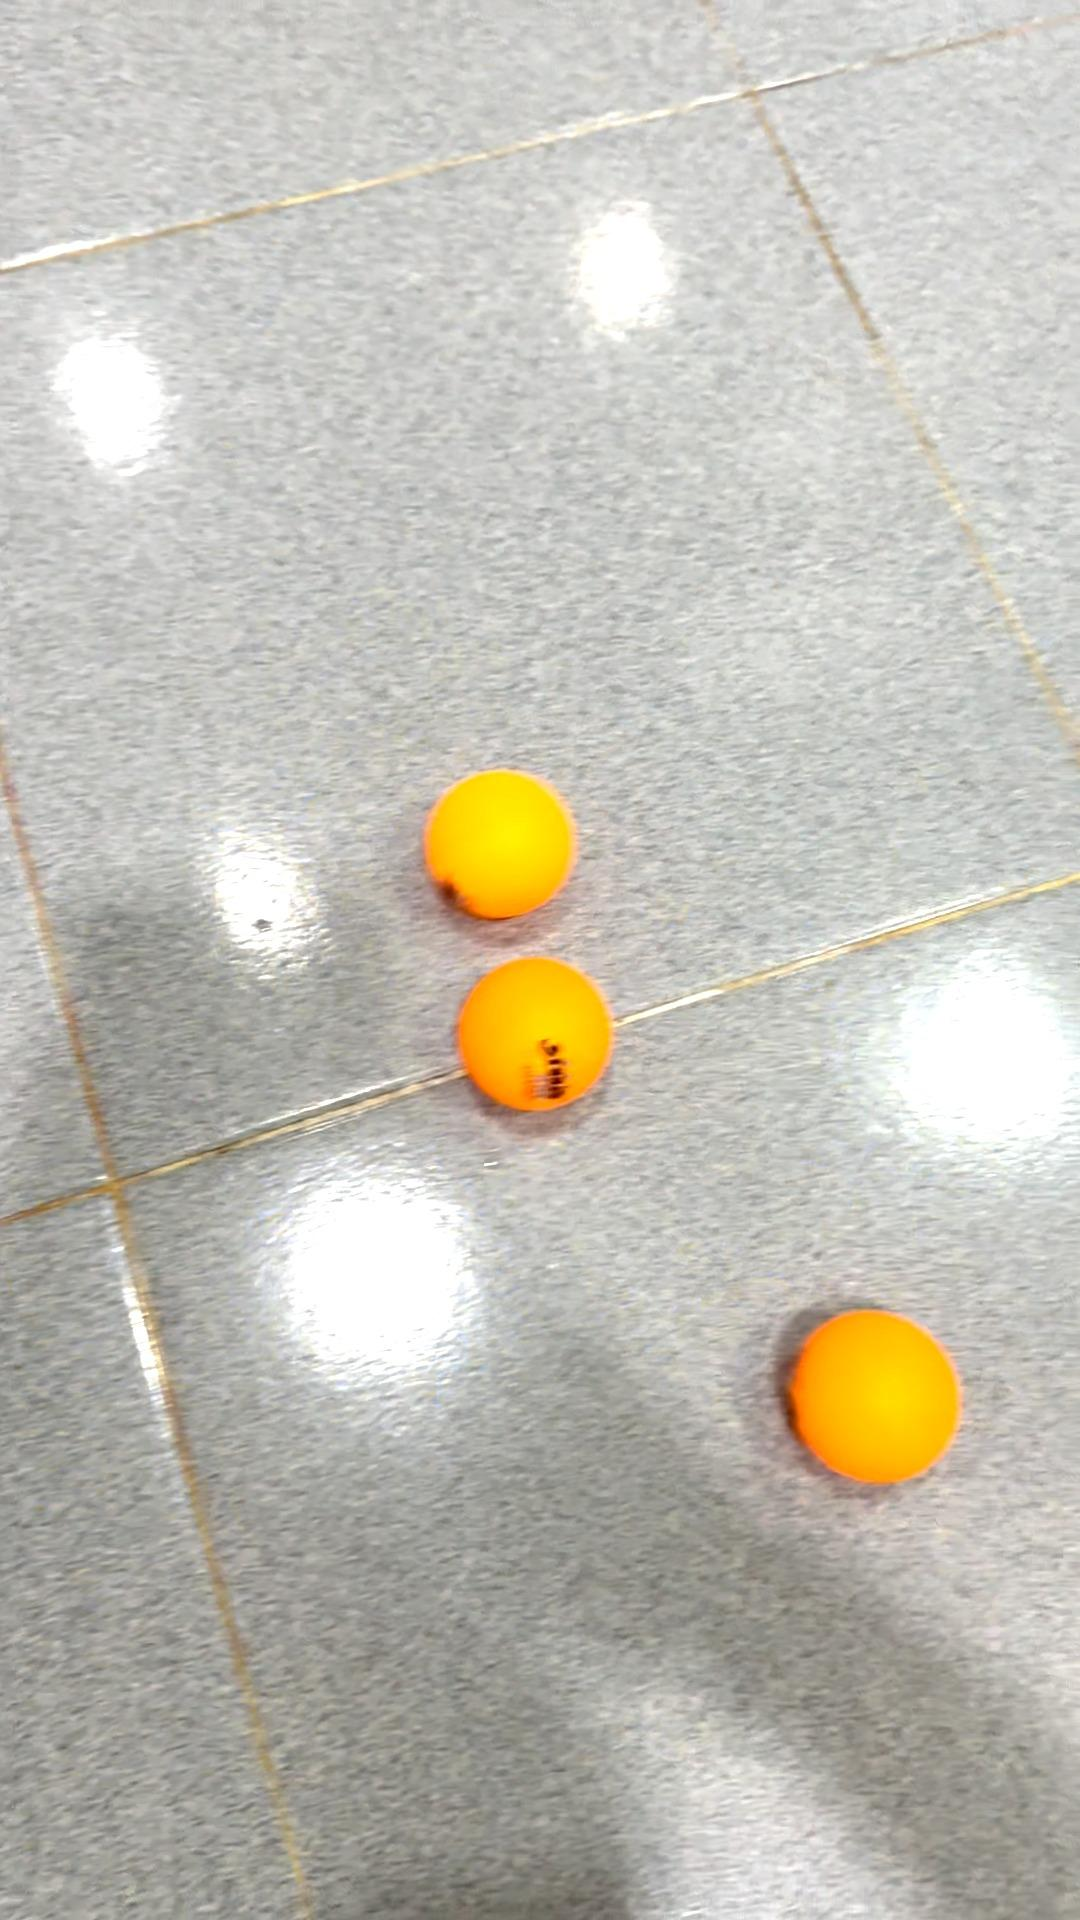oball: (785, 1302, 968, 1499), (454, 955, 621, 1126), (425, 765, 584, 931)
